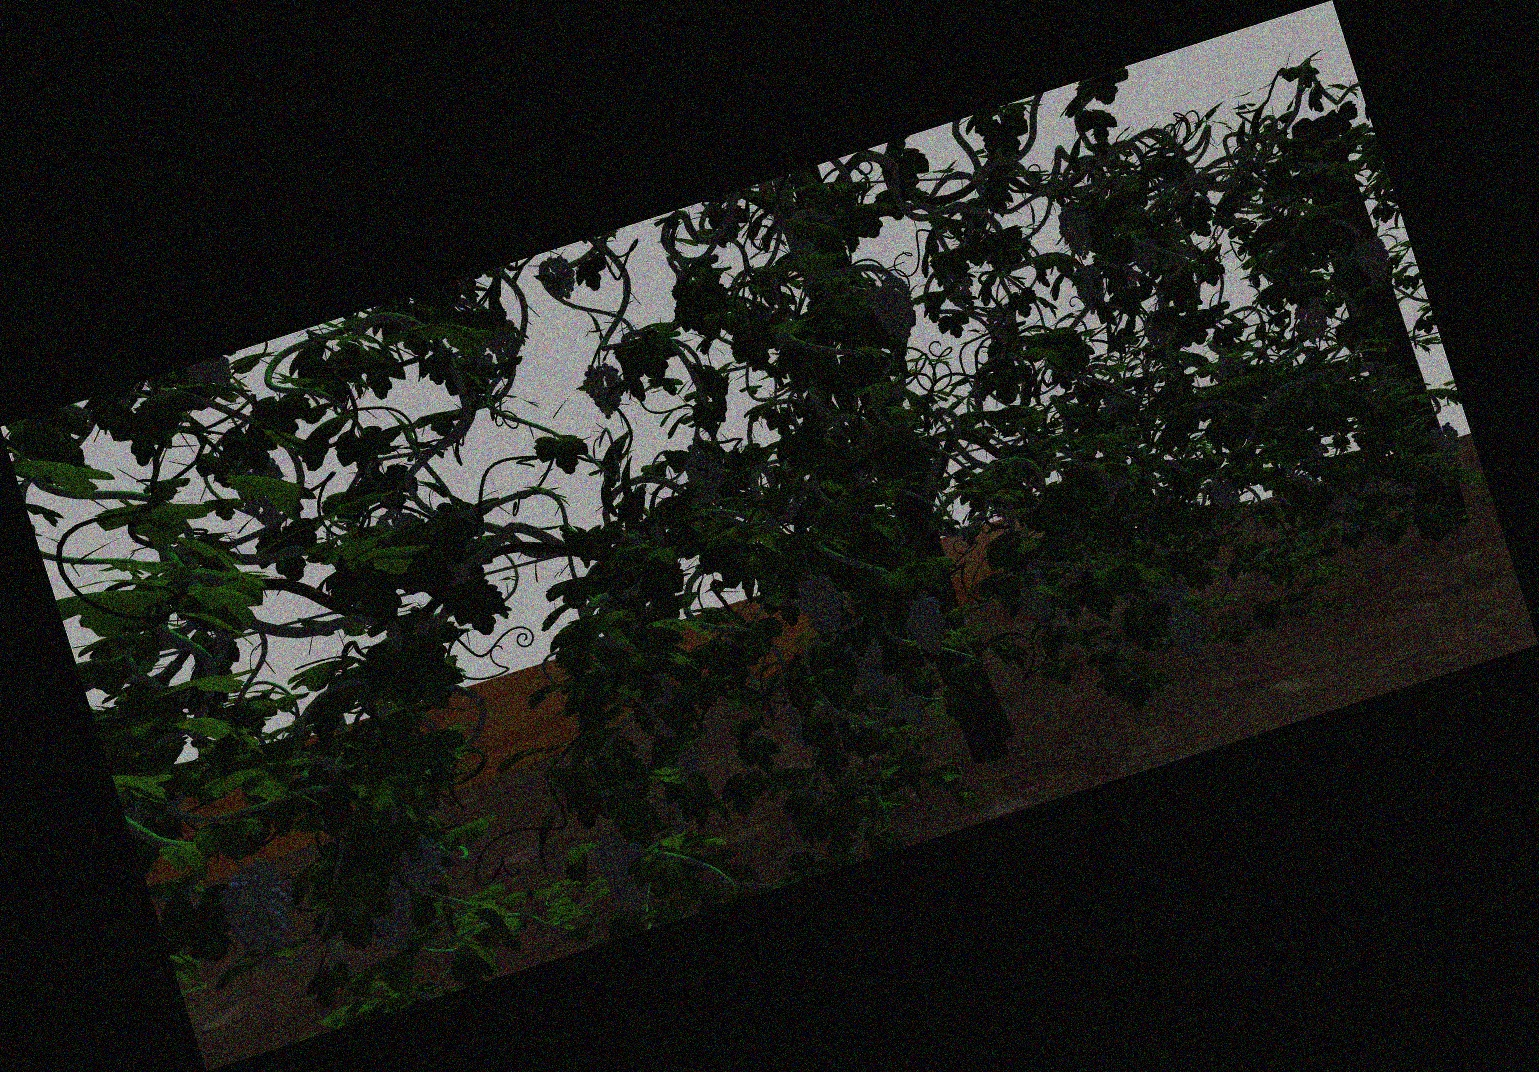grape: (223, 867, 292, 956), (600, 834, 649, 917), (368, 881, 414, 952), (799, 570, 844, 639), (904, 593, 948, 661), (871, 278, 916, 343), (399, 834, 446, 893), (851, 637, 889, 701), (686, 443, 726, 502), (1019, 565, 1053, 627), (587, 364, 622, 419), (1060, 201, 1092, 260), (1169, 610, 1206, 658), (1075, 265, 1106, 312), (1359, 237, 1390, 284), (540, 257, 574, 299), (1297, 299, 1328, 343), (1157, 570, 1191, 609), (674, 749, 706, 789), (1430, 424, 1461, 466), (788, 704, 812, 753), (891, 693, 926, 725), (1132, 238, 1160, 272), (1210, 480, 1240, 509), (1328, 493, 1358, 516)
